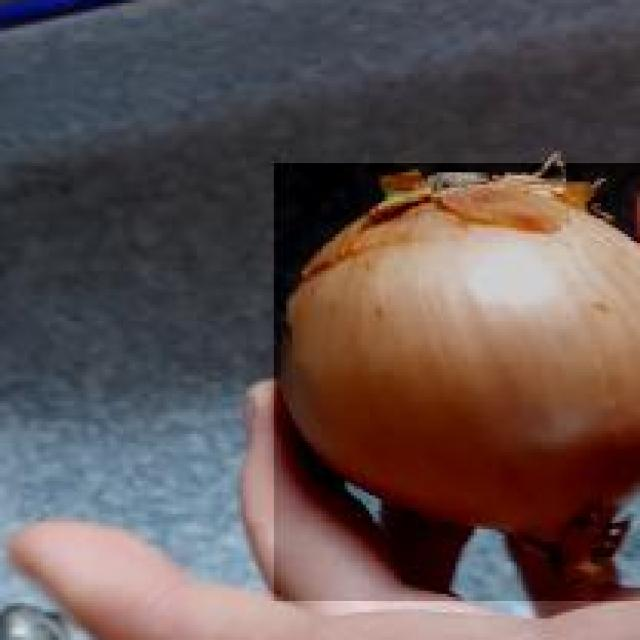onion: (267, 160, 640, 600)
